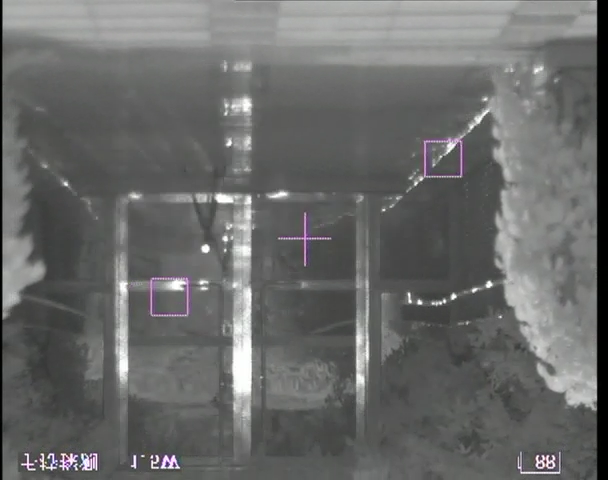my: (199, 243, 211, 255)
